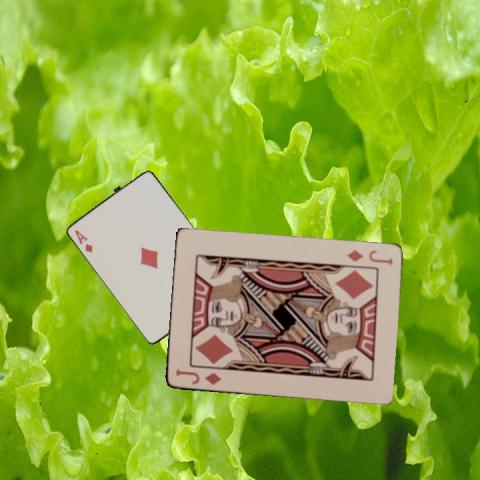Ad: (72, 227, 95, 254)
Jd: (172, 365, 223, 387), (344, 248, 394, 268)
